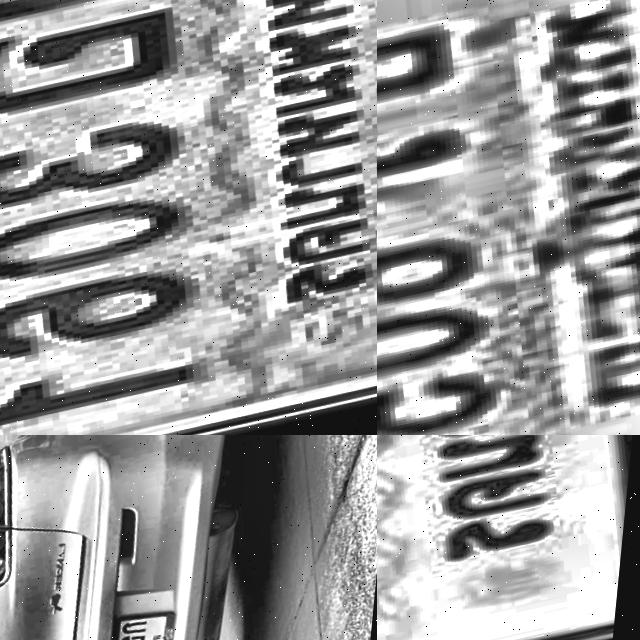license-plate: (0, 0, 377, 435), (377, 0, 640, 435), (377, 435, 640, 640), (95, 604, 201, 640)
